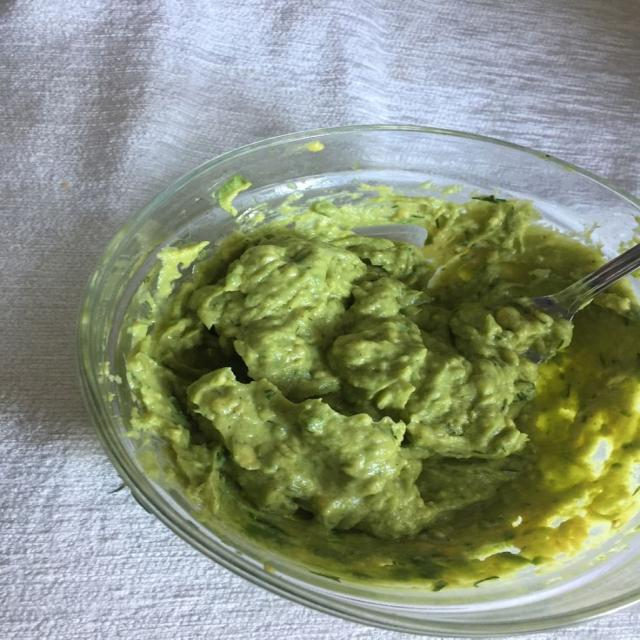avocado: (124, 187, 639, 590)
